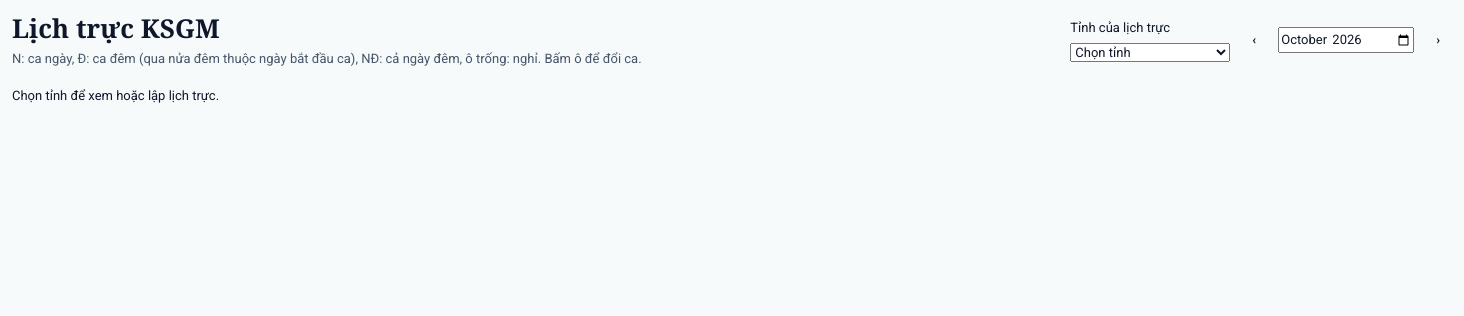
Test: CNTS-ROSTER-SCOPE-002: Admin chọn tỉnh trước khi tải; lịch chung cũ chỉ xem
Select "An Giang" in the dropdown labelled "Tỉnh của lịch trực". click: {"x": 1150, "y": 53}
box: [1070, 43, 1230, 62]
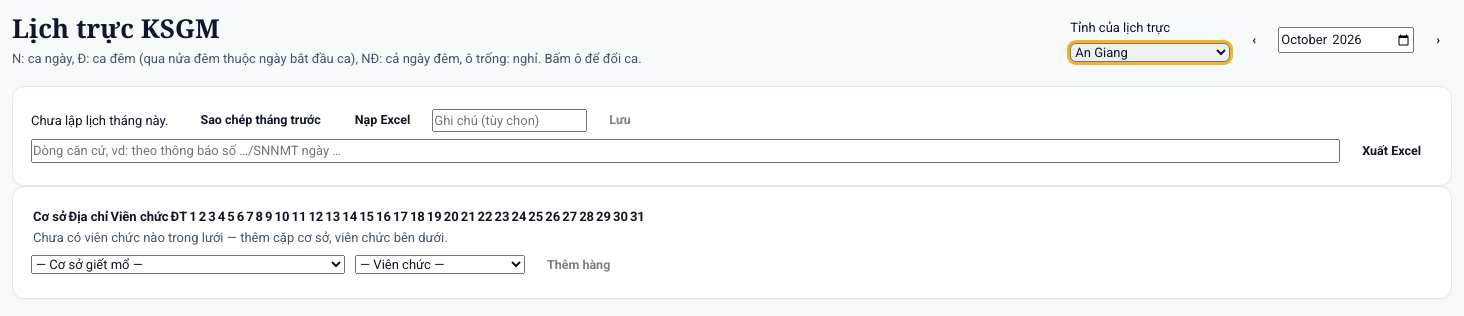
Now the button "Thêm hàng" is shown, box [535, 250, 622, 280]
Select "Lịch chung cũ (chỉ xem)" in the dropdown labelled "Tỉnh của lịch trực". click: {"x": 1150, "y": 53}
box: [1070, 43, 1230, 62]
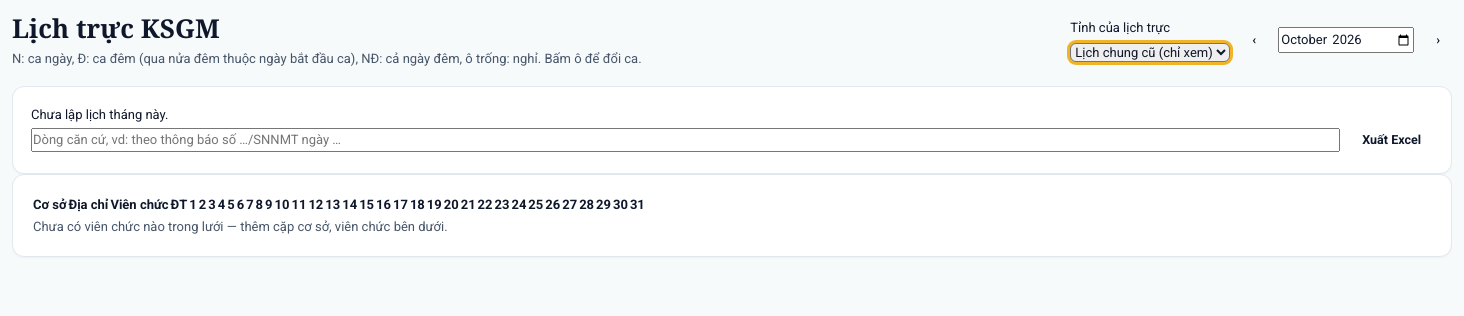
Now the button "Thêm hàng" is gone
Now the button "Lưu" is gone
